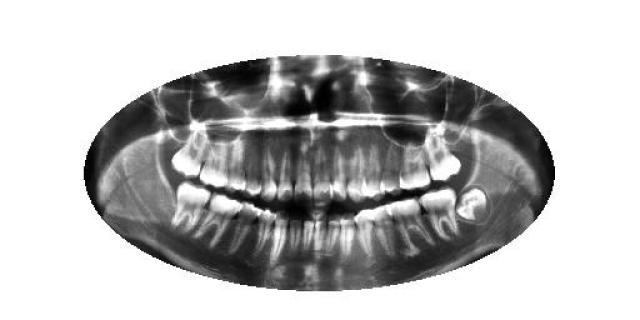Restorations: (454, 184, 491, 225)
